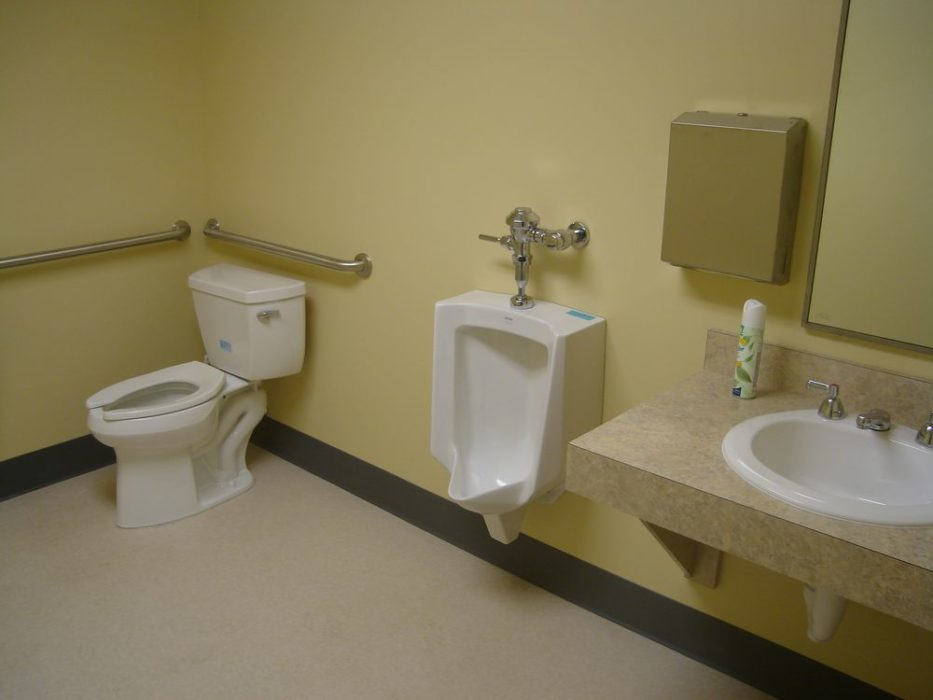countertop: (573, 369, 933, 569)
dispenser: (659, 110, 809, 286)
faucet: (802, 378, 849, 424)
restroom_assist_bar: (200, 215, 374, 279), (1, 219, 192, 274)
sink: (722, 410, 933, 531)
toilet: (86, 267, 304, 530), (419, 288, 607, 543)
toilet_handle: (479, 233, 513, 248), (255, 308, 282, 324)
